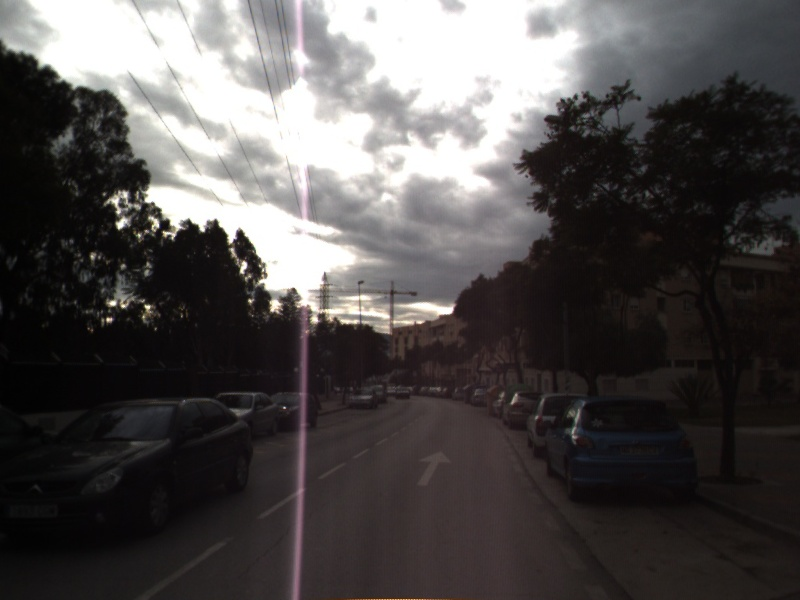STRAIGHT: (414, 449, 454, 488)
